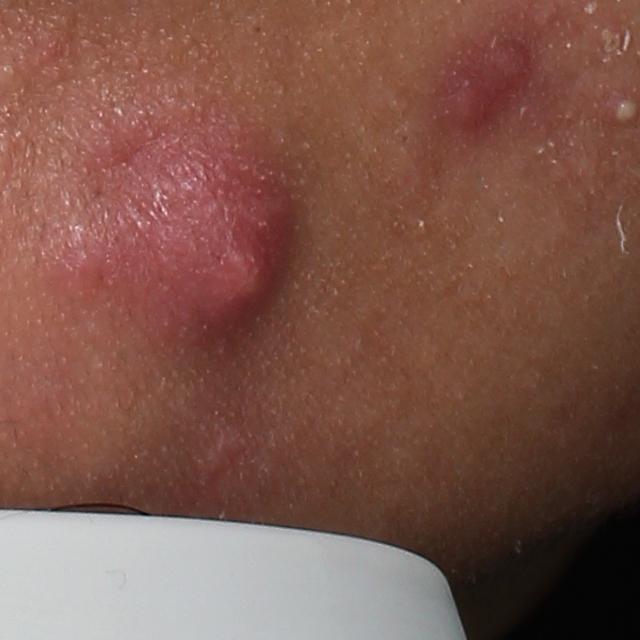nodule: (94, 85, 308, 352)
papule: (442, 81, 492, 129), (485, 43, 529, 96)
